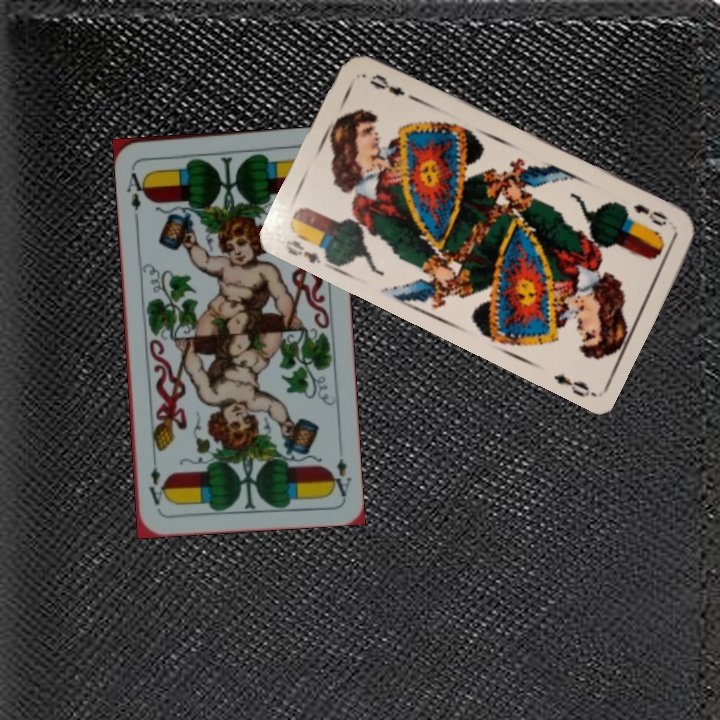EA: (122, 163, 150, 222), (326, 454, 354, 499)
EO: (281, 236, 324, 267), (629, 200, 670, 229)
